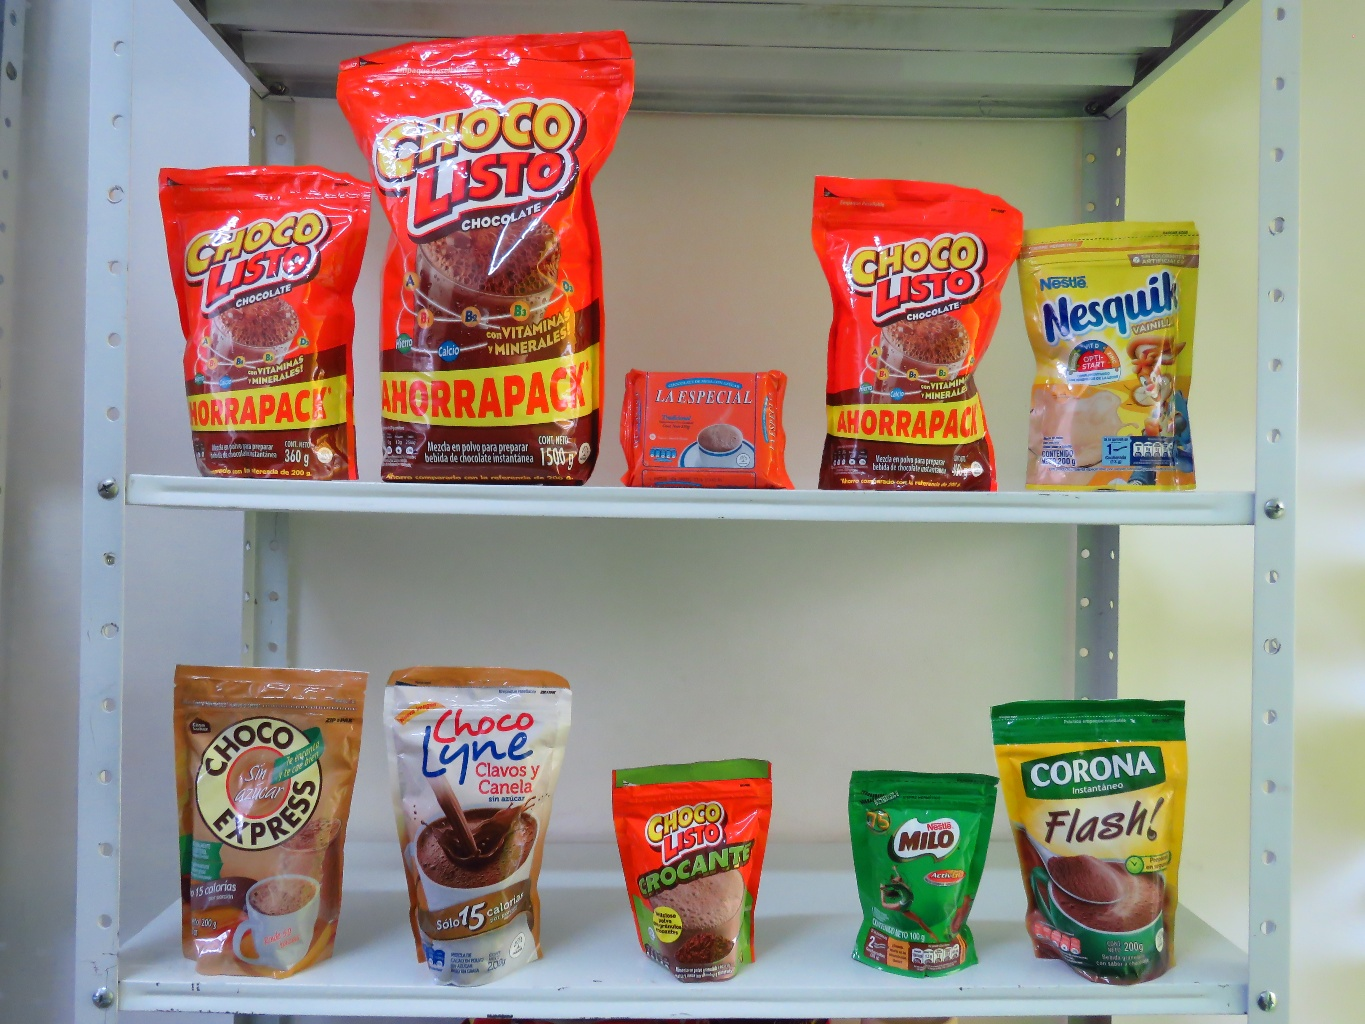COL0170102DYP10000: (597, 734, 787, 995)
COL0170103DYP1,500: (304, 11, 651, 496)
COL0170103DYP36000: (138, 154, 381, 512)
COL0170103DYP40000: (778, 160, 1023, 503)
COL0170203DYP10000: (816, 743, 1034, 999)
COL0170306DYP20000: (998, 199, 1229, 507)
